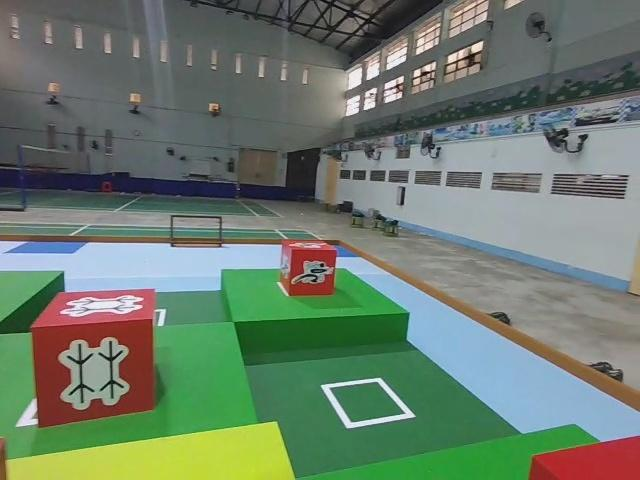R1: (279, 235, 338, 298)
R2 Real: (27, 285, 159, 430)
